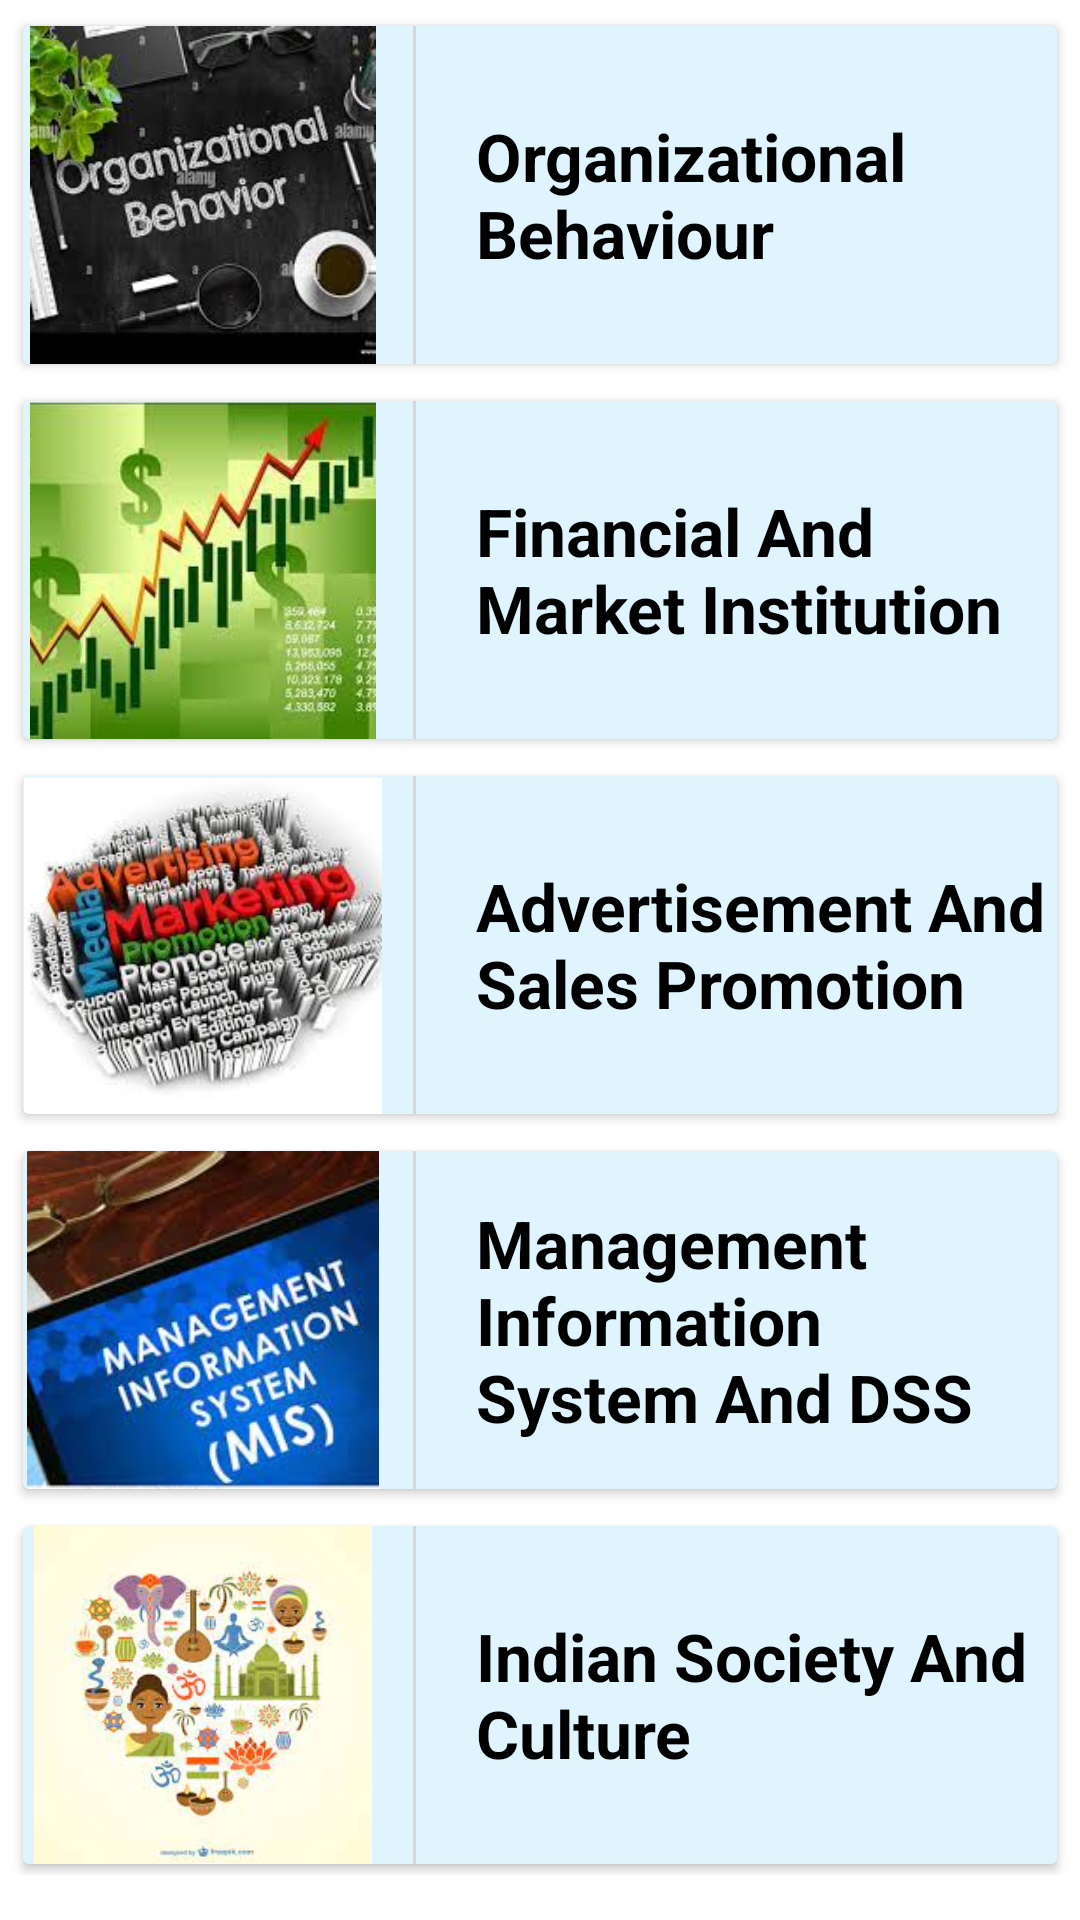

Icons on this 1080×1920 Android screen, each with the point to tap as [x,y]:
financemarketing: [203,570]
socity: [203,1695]
